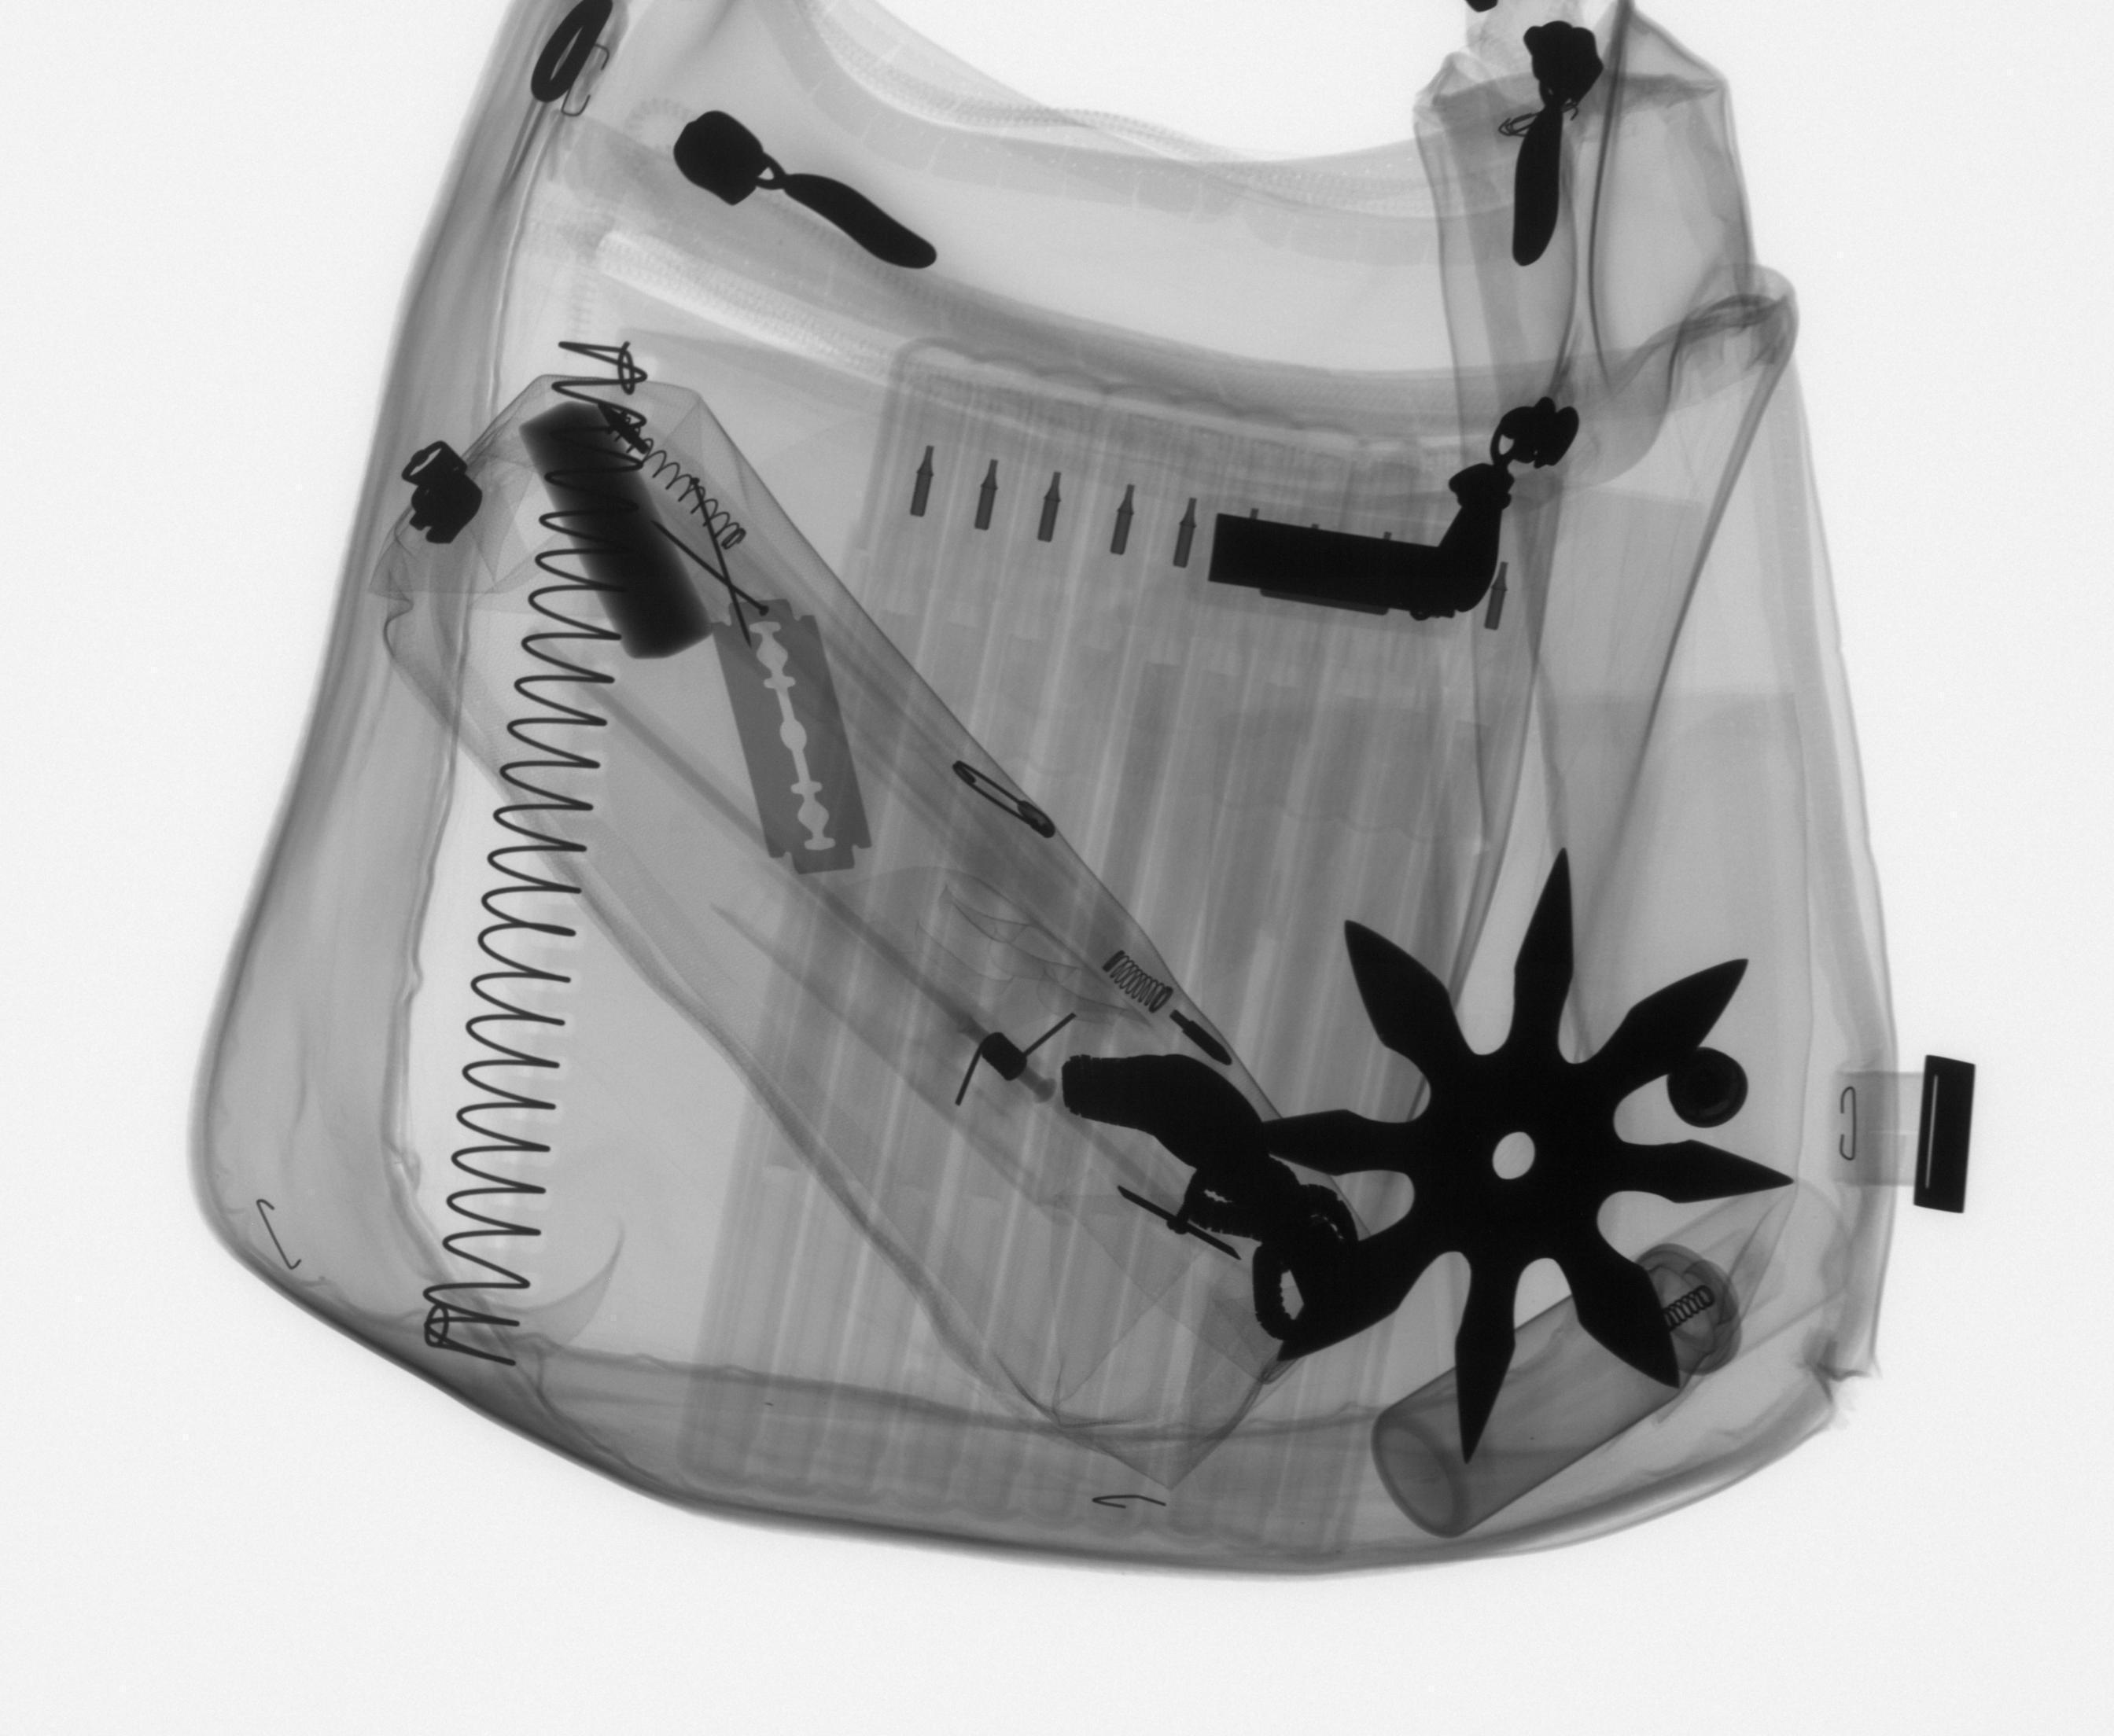RazorBlade: (704, 592, 881, 885)
Shuriken: (1233, 843, 1807, 1473)
